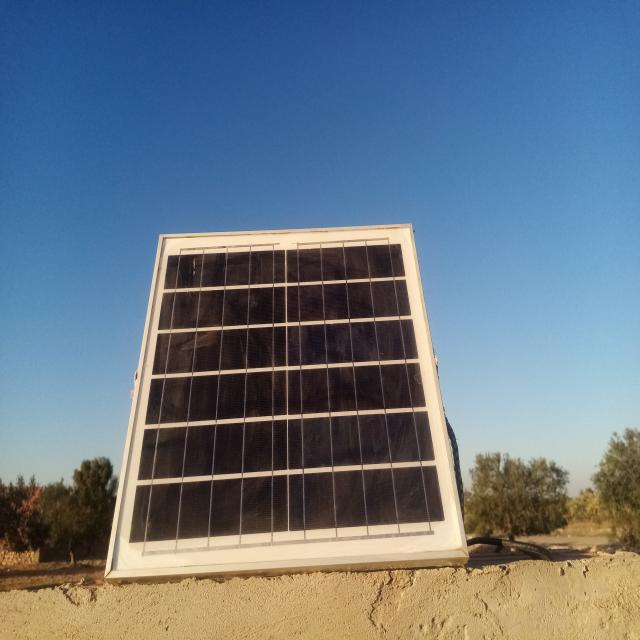faulty: (108, 226, 463, 570)
